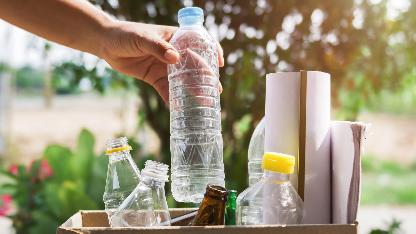Plastic Bottle: (170, 7, 224, 203), (236, 148, 306, 224), (110, 160, 170, 230)
